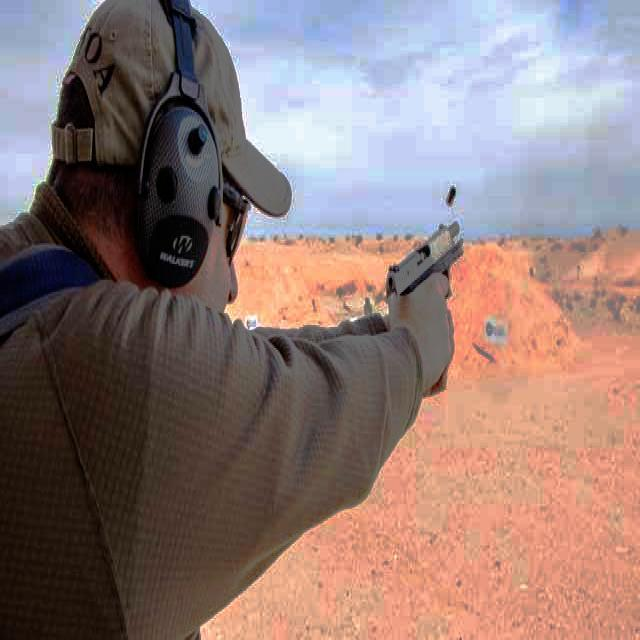Gun: (386, 208, 482, 344)
